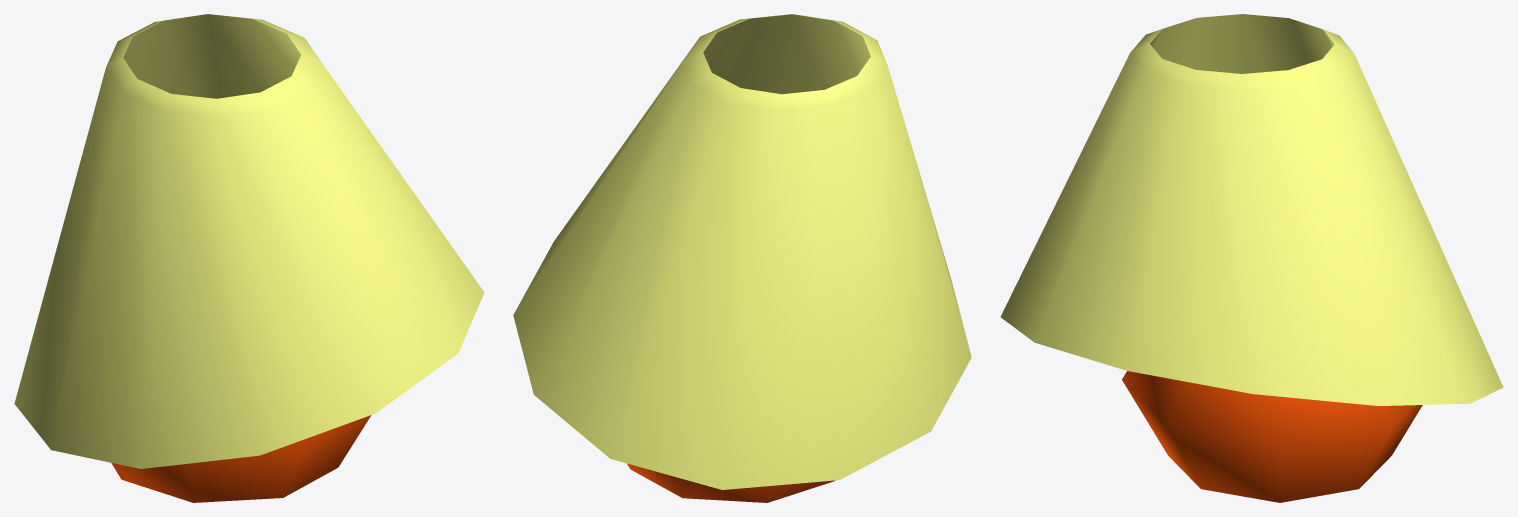
Rendered from lamp.fbx.
3 views of the same model, side by side, from view 1: azimuth 30°, elevation 25°; view 2: azimuth 150°, elevation 25°; view 3: azimuth 270°, elevation 25° (orthographic). The views are drawn at different scales.
Visible parts, largest first — view 1: lamp; view 2: lamp; view 3: lamp.
Part boxes in pixels (bbox=[...]): lamp: bbox=[14, 14, 484, 502]; lamp: bbox=[513, 14, 971, 502]; lamp: bbox=[1000, 14, 1503, 502].
Size of the model in its own units: 1.11 by 1.14 by 1.29.
